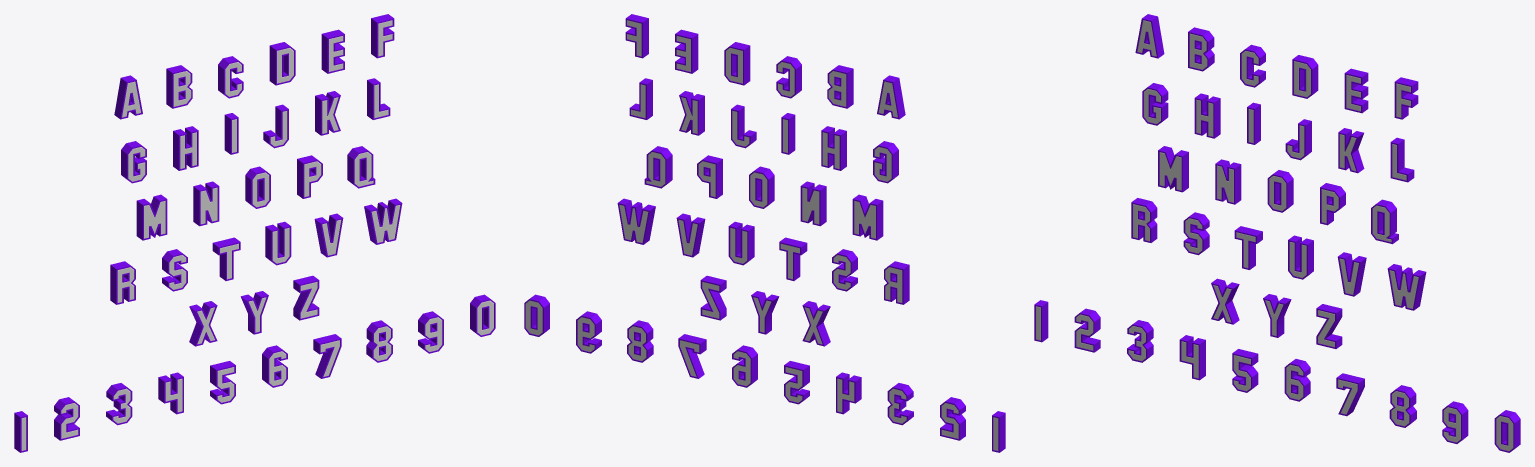
The model's file is Font-02.fbx.
3 renders of one model, left to right at view 1: azimuth 30°, elevation 25°; view 2: azimuth 150°, elevation 25°; view 3: azimuth 330°, elevation 25°, orthographic.
Visible parts, largest first — view 1: Extrusion Model.000, Extrusion Model; view 2: Extrusion Model.000, Extrusion Model; view 3: Extrusion Model.000, Extrusion Model.
Part boxes in pixels (x1,y1,x2,y2): Extrusion Model.000: (14,14,495,452); Extrusion Model: (21,20,493,450); Extrusion Model.000: (524,14,1005,452); Extrusion Model: (525,20,998,450); Extrusion Model.000: (1034,14,1520,452); Extrusion Model: (1036,20,1513,451).
Size of the model in its own units: 212 by 147 by 4.77.
